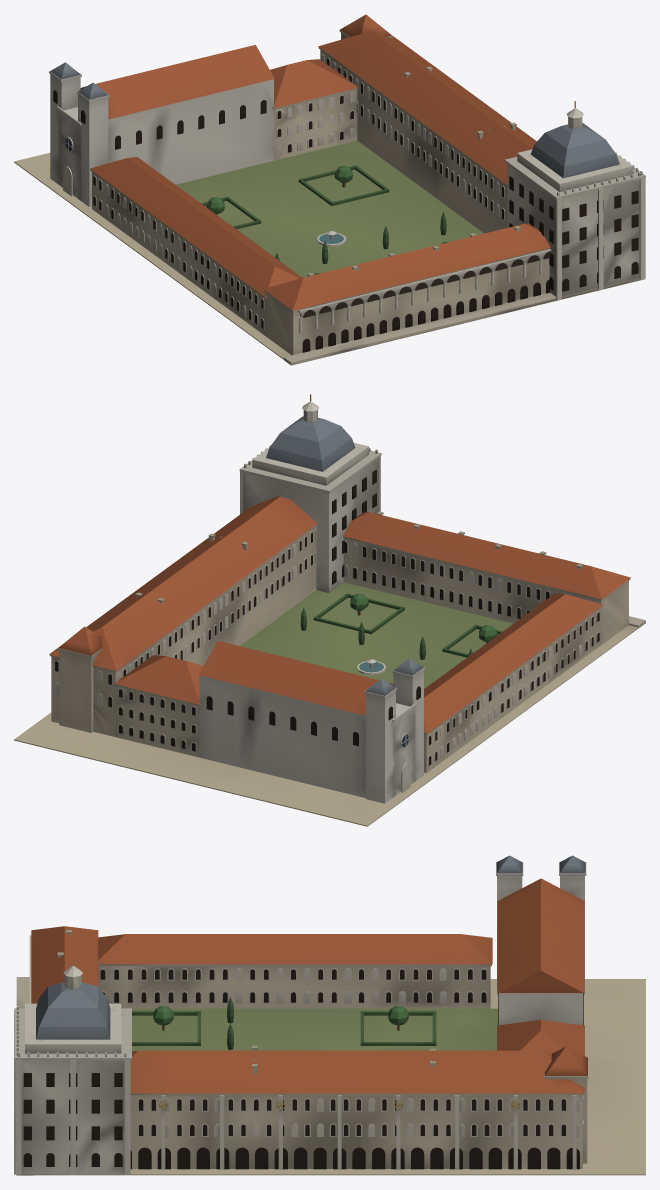
Rendered from paco-ribeira-1750.glb.
3 views of the same model, one above another, from view 1: azimuth 30°, elevation 25°; view 2: azimuth 150°, elevation 25°; view 3: azimuth 270°, elevation 25° (orthographic). The views are drawn at different scales.
Parts seen in each view (by area): view 1: p1_palace, p2_torreão, p0_ground; view 2: p1_palace, p2_torreão, p0_ground; view 3: p1_palace, p2_torreão, p0_ground.
Boxes of the visible parts, left/top/right/bottom form: p1_palace: left=90, top=31, right=551, bottom=355; p2_torreão: left=49, top=14, right=645, bottom=300; p0_ground: left=14, top=152, right=640, bottom=365; p1_palace: left=49, top=496, right=630, bottom=772; p2_torreão: left=58, top=394, right=424, bottom=803; p0_ground: left=14, top=616, right=645, bottom=826; p1_palace: left=29, top=926, right=584, bottom=1169; p2_torreão: left=14, top=855, right=588, bottom=1175; p0_ground: left=16, top=977, right=645, bottom=1175.
Bounding box in the file's own units: 111 × 50.96 × 151.
